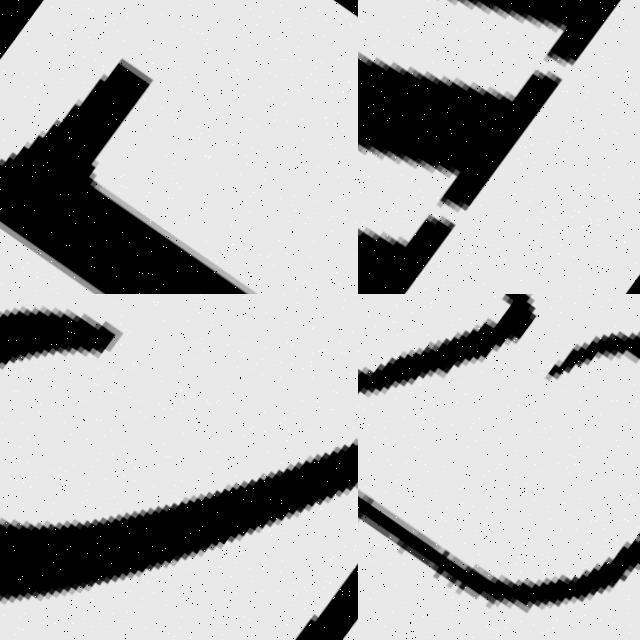1: (0, 15, 358, 294)
2: (0, 294, 358, 640)
M: (358, 0, 640, 294)
Y: (358, 294, 640, 640)
